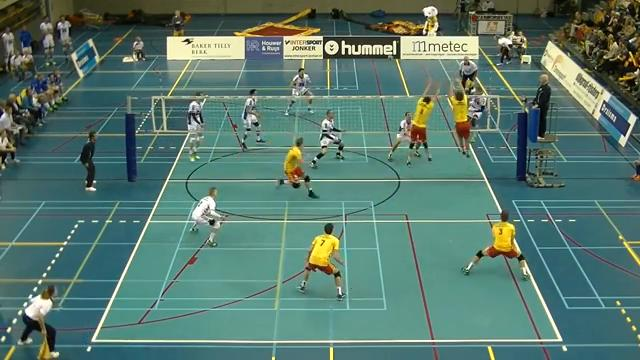attacco: (467, 84, 488, 146)
muro: (402, 75, 435, 169), (446, 75, 478, 156)
